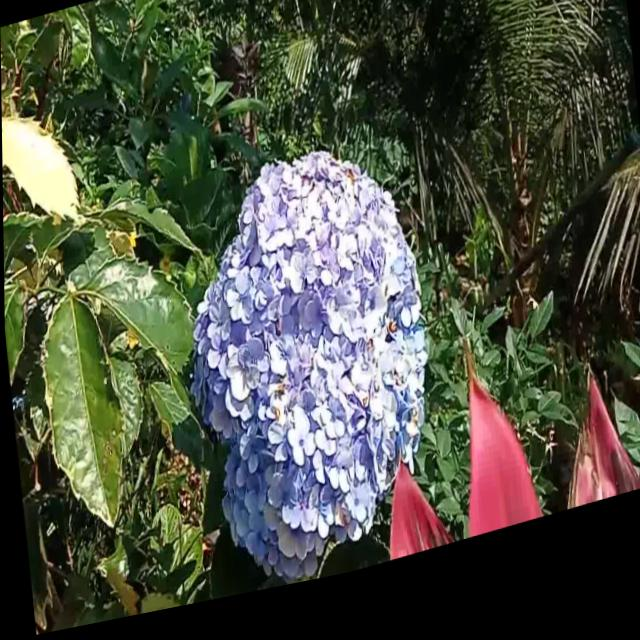Flower: (173, 129, 446, 605)
